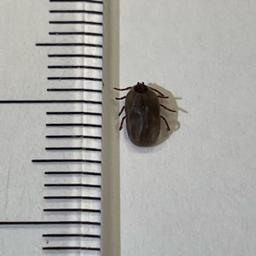Rhipicephalus sanguineus: (112, 83, 176, 146)
